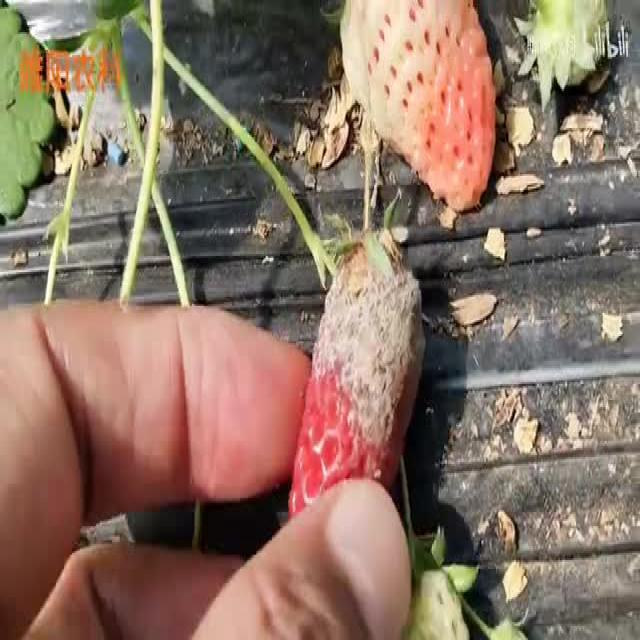Fruta sana: (339, 0, 498, 210), (516, 0, 613, 101)
Moho gris: (286, 222, 424, 540)
